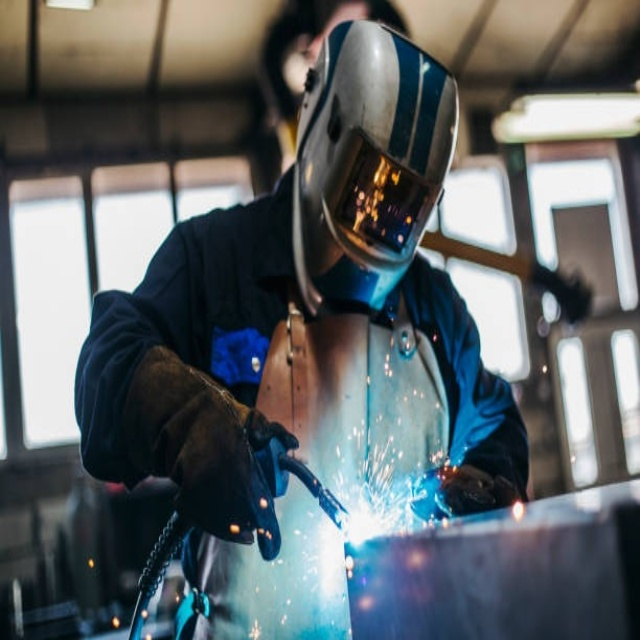Guantes: (127, 342, 296, 562)
